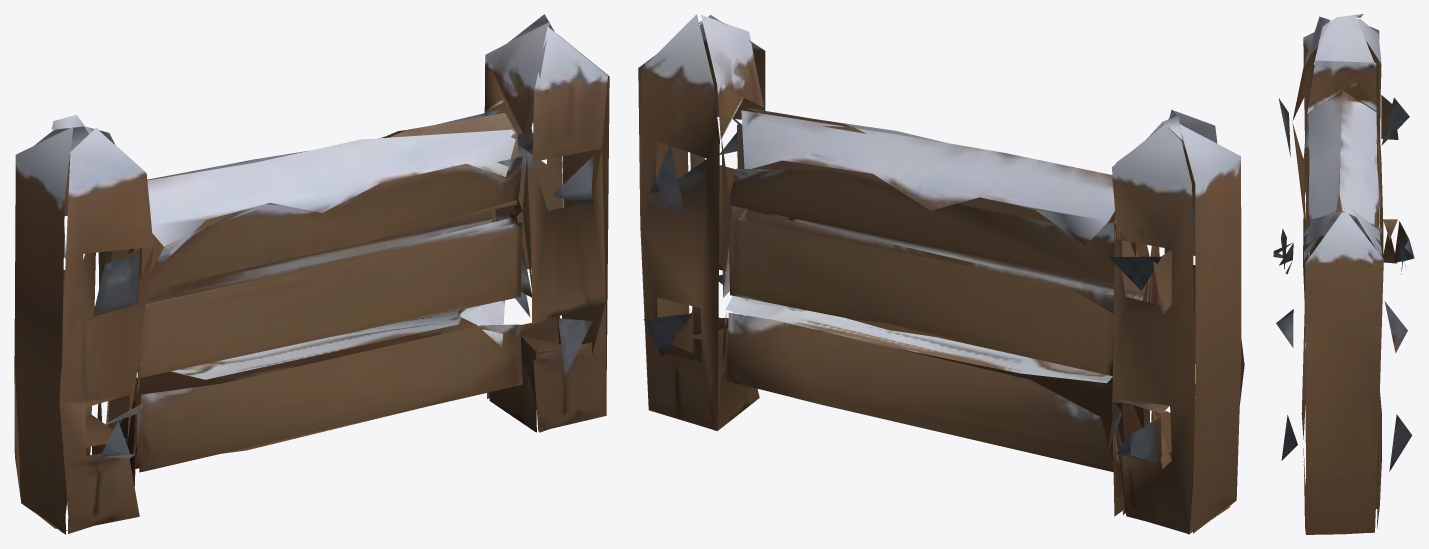
The model's file is fence_gen_d.glb.
The picture shows the model from 3 angles, left to right: view 1: azimuth 30°, elevation 25°; view 2: azimuth 150°, elevation 25°; view 3: azimuth 270°, elevation 25°; orthographic projection. The views are drawn at different scales.
Parts seen in each view (by area): view 1: fence_gen.003; view 2: fence_gen.003; view 3: fence_gen.003.
Boxes of the visible parts, left/top/right/bottom form: fence_gen.003: left=14, top=14, right=609, bottom=534; fence_gen.003: left=638, top=14, right=1244, bottom=534; fence_gen.003: left=1273, top=14, right=1414, bottom=534.
Bounding box in the file's own units: 1.99 × 1.39 × 0.5488.
1 material, 1 textured.
